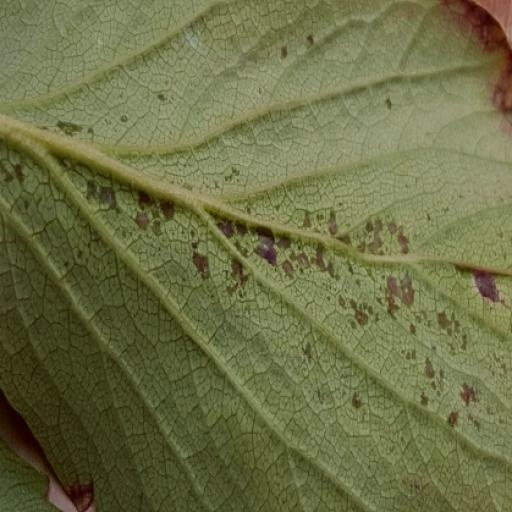Angular Leafspot: (0, 76, 511, 511)
